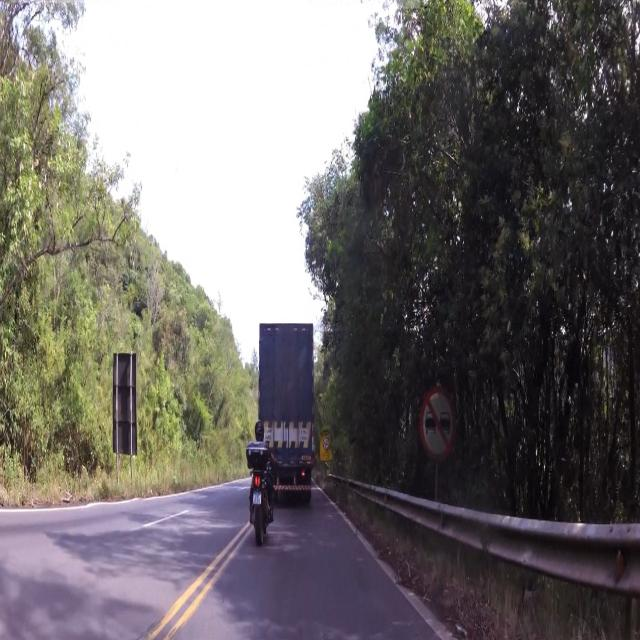R-7: (420, 382, 454, 465)
